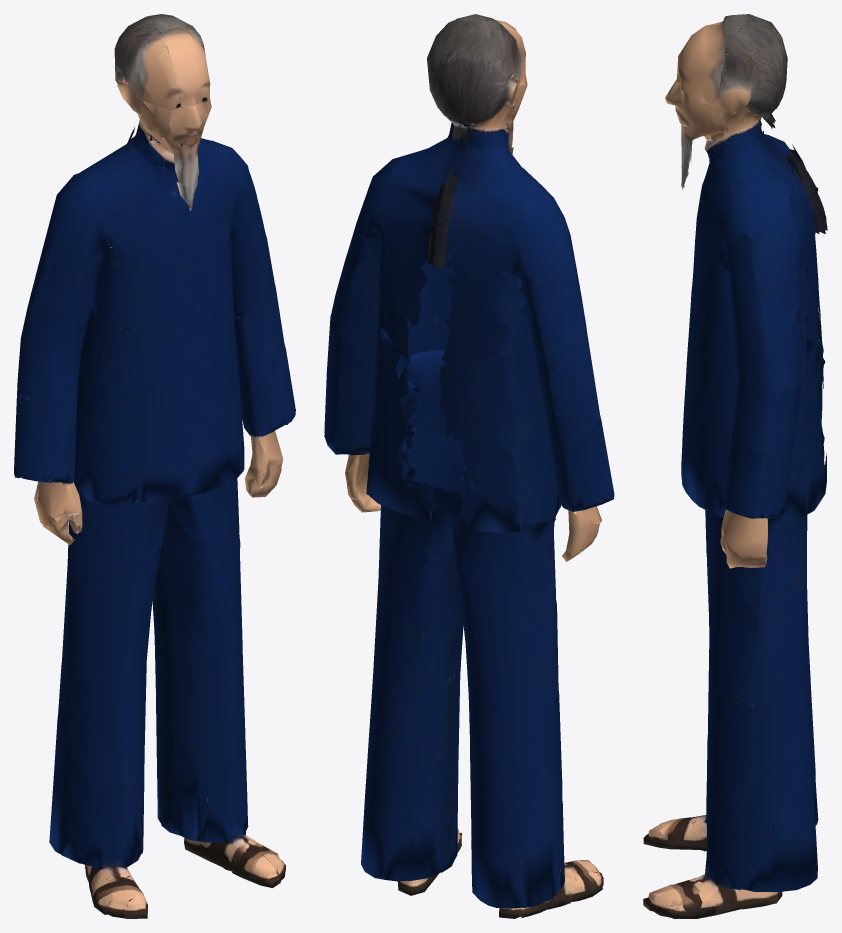
The model's file is bac_ho.glb.
3 views of the same model, side by side, from view 1: azimuth 30°, elevation 25°; view 2: azimuth 150°, elevation 25°; view 3: azimuth 270°, elevation 25° (orthographic). The views are drawn at different scales.
Visible parts, largest first — view 1: Mesh_0; view 2: Mesh_0; view 3: Mesh_0.
Boxes of the visible parts, x1,y1,x2,y2 form: Mesh_0: [14, 14, 295, 918]; Mesh_0: [324, 14, 614, 918]; Mesh_0: [643, 14, 827, 918].
Size of the model in its own units: 0.6573 by 1.9 by 0.3703.
1 material, 1 textured.
